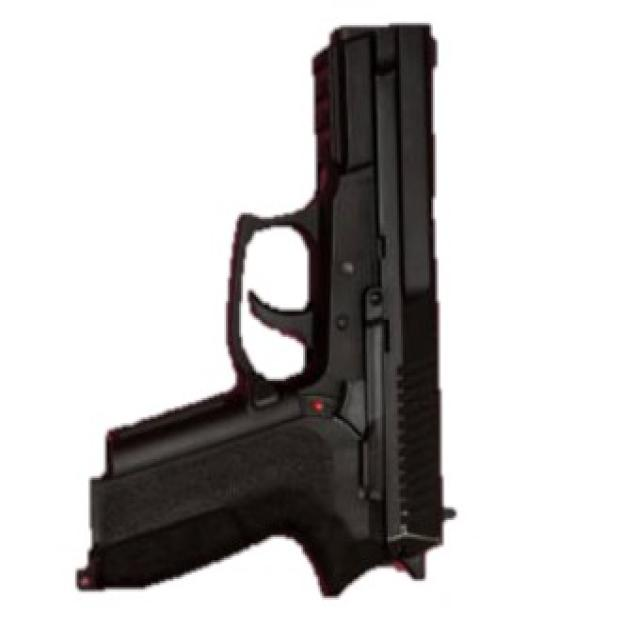pistol: (67, 13, 465, 615)
